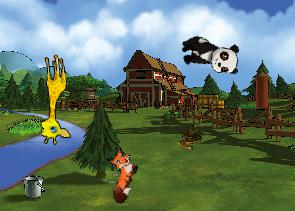fox: (93, 144, 144, 205)
giraffe: (33, 53, 71, 145)
panda: (177, 34, 242, 76)
